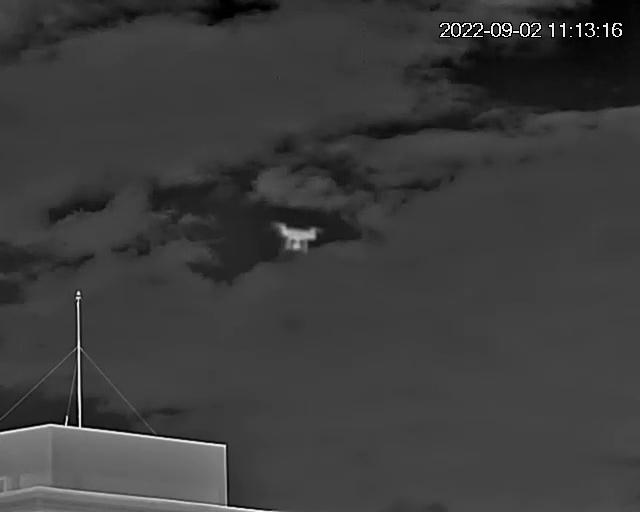DJI-Phantom: (272, 220, 327, 257)
